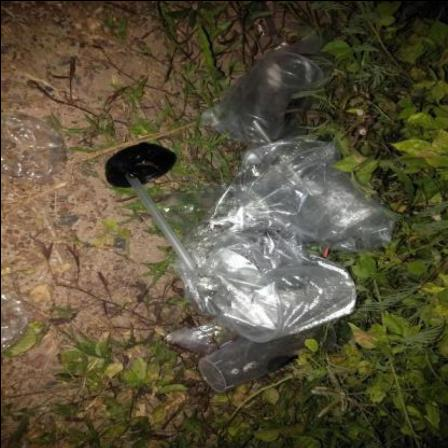Cup: (199, 323, 337, 393)
Lid: (106, 145, 177, 189)
Other plastic: (2, 115, 68, 181), (2, 290, 35, 355)
Plastic bag - wrapper: (160, 35, 395, 355)
Straw: (124, 173, 196, 271), (252, 121, 315, 197), (323, 248, 330, 258)
